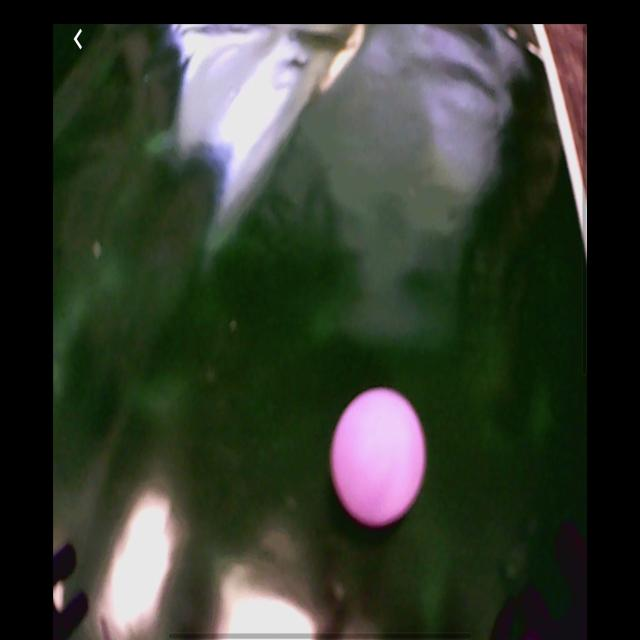ball: (330, 388, 428, 529)
